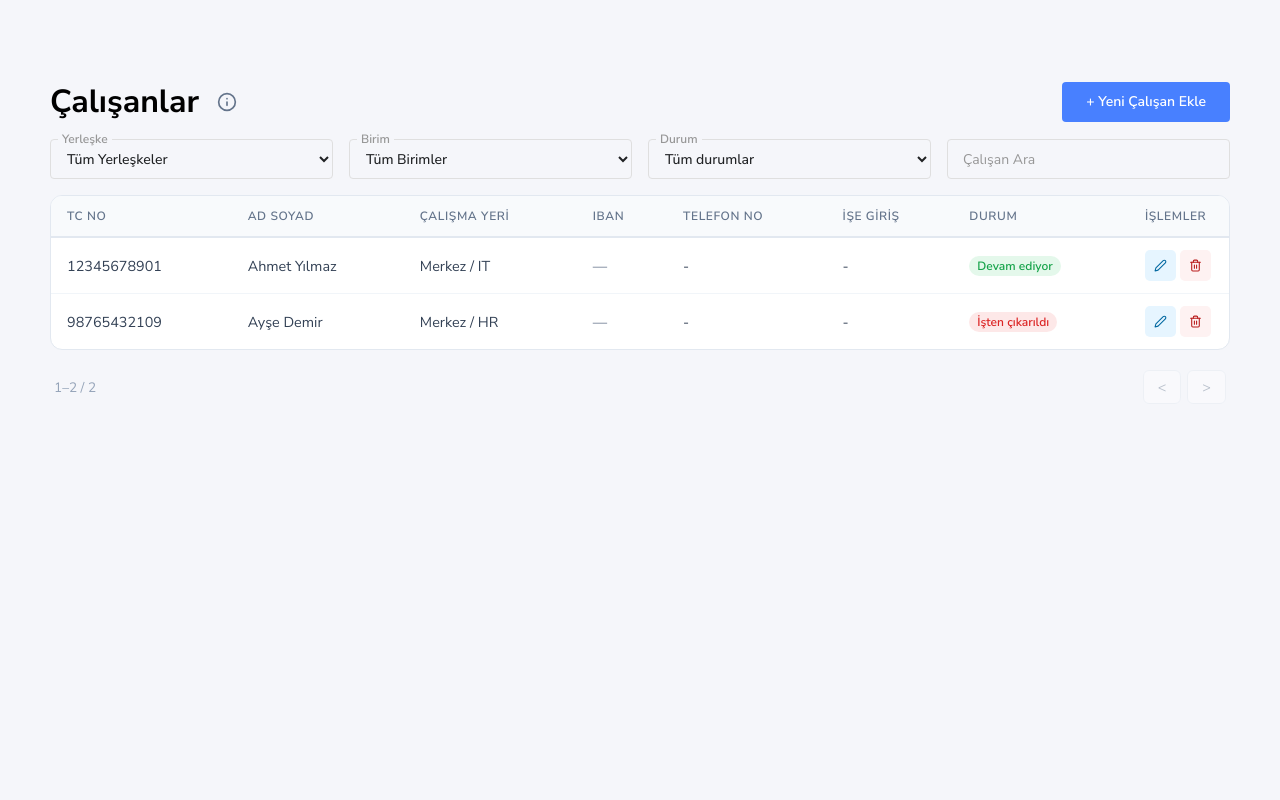
Test: EmployeesPage (Personel Yönetimi) › bir personeli silmek istediğinde onay modali açılmalı ve onaylanınca silmeli
This screenshot has width=1280, height=800.
Click the 1st button with class "delete-btn" at [1196, 266], box x1=1180 y1=250 x2=1211 y2=281
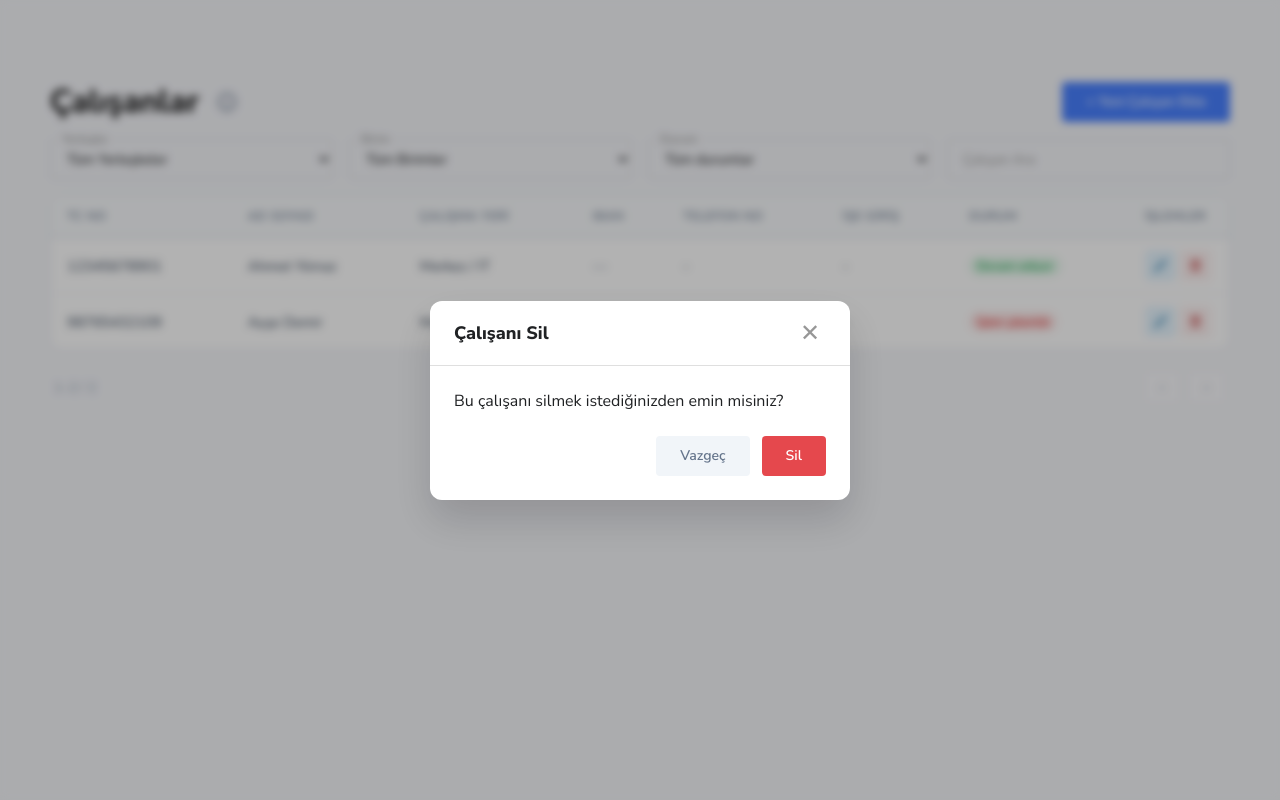
Now the heading "Çalışanı Sil" is shown, box x1=454 y1=320 x2=549 y2=344
Click the button "Sil" at [794, 456], box x1=762 y1=436 x2=826 y2=476
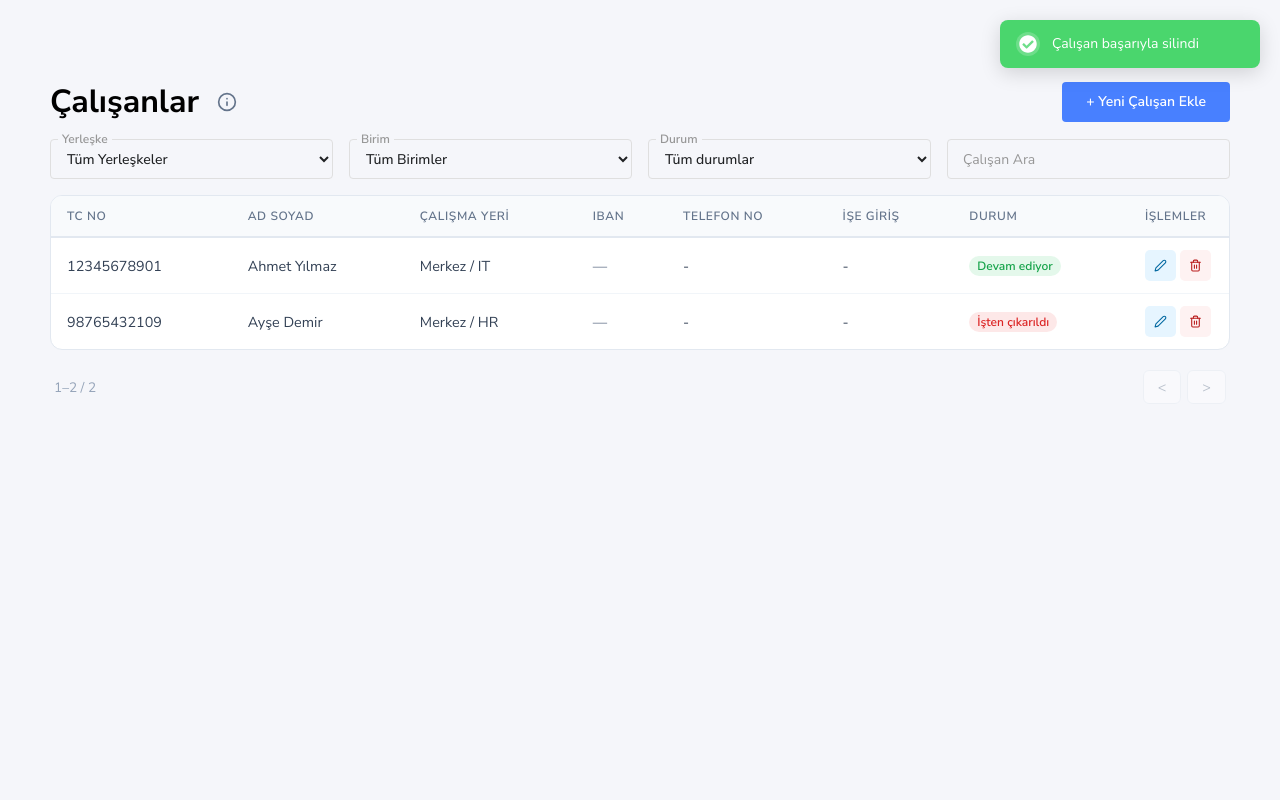
Now the text "Çalışan başarıyla silindi" is shown, box x1=1052 y1=34 x2=1199 y2=53
